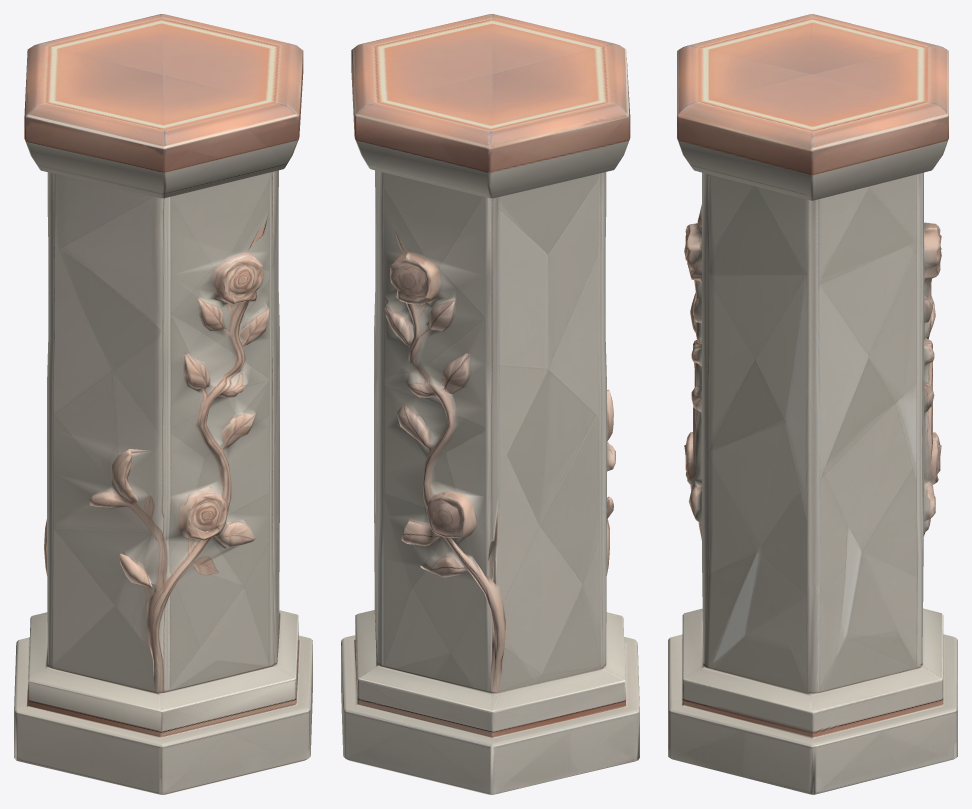
The model's file is closed-loop-core-compressed.glb.
The picture shows the model from 3 angles, left to right: view 1: azimuth 30°, elevation 25°; view 2: azimuth 150°, elevation 25°; view 3: azimuth 270°, elevation 25°; orthographic projection.
Parts seen in each view (by area): view 1: Mesh_0.001; view 2: Mesh_0.001; view 3: Mesh_0.001.
Part boxes in pixels (x1=…): Mesh_0.001: x1=14, y1=14, x2=312, y2=794; Mesh_0.001: x1=341, y1=14, x2=639, y2=794; Mesh_0.001: x1=668, y1=14, x2=957, y2=794.
Size of the model in its own units: 0.3349 by 0.7 by 0.2831.
Materials: 1 (1 with a texture image).
